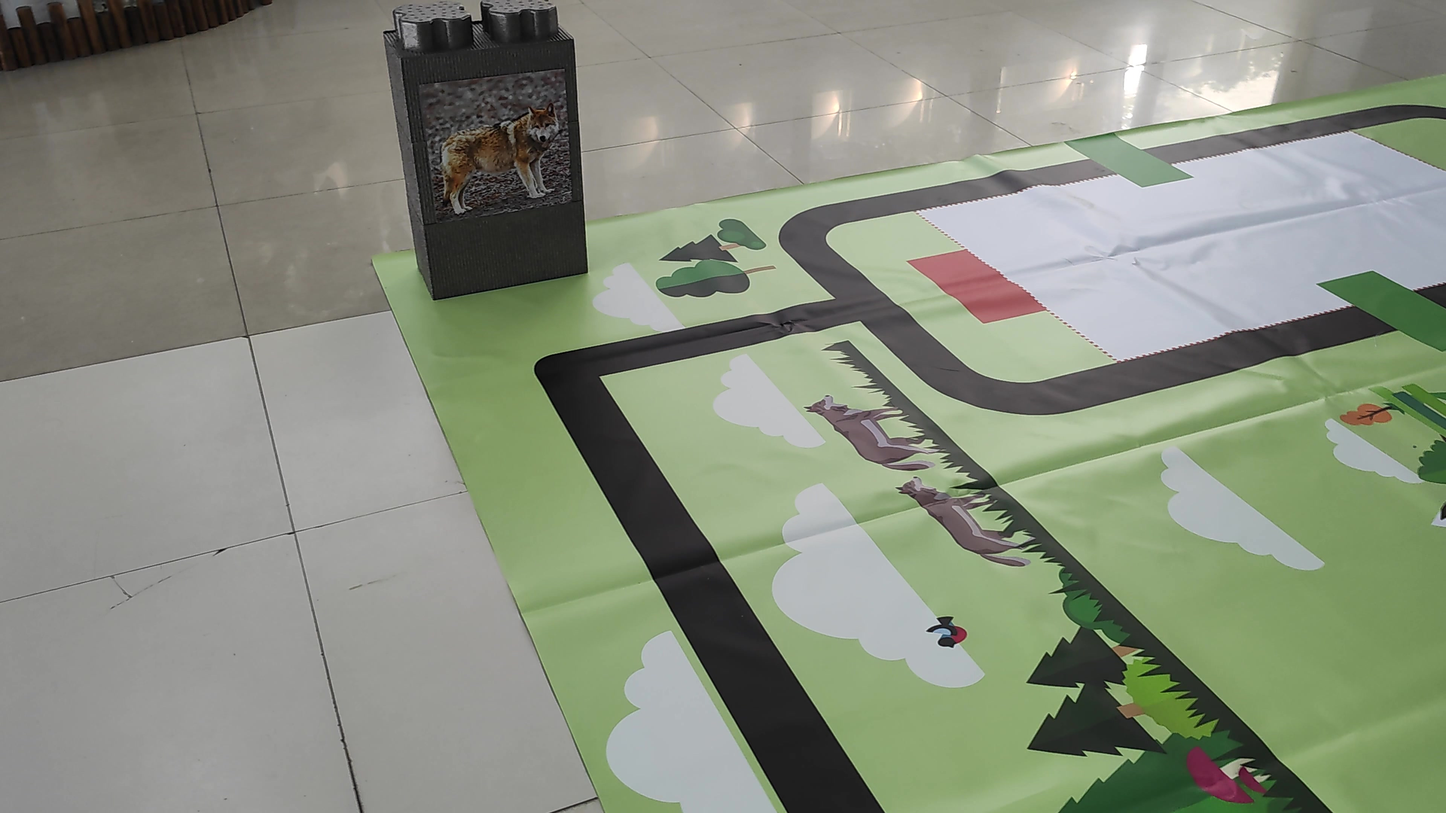wolf: (433, 97, 567, 224)
